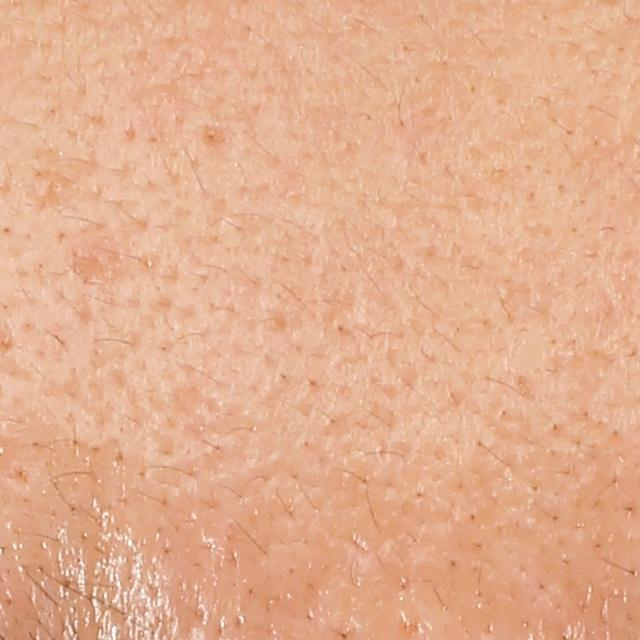atrophic_scar: (195, 123, 233, 154)
